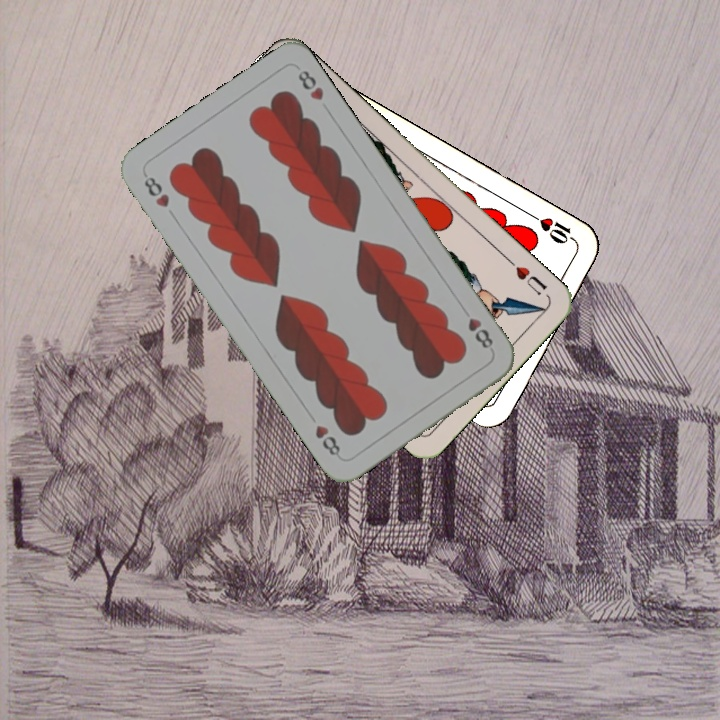H10: (526, 210, 580, 247)
H8: (457, 302, 496, 351), (139, 169, 172, 211)
HU: (503, 254, 550, 298)
